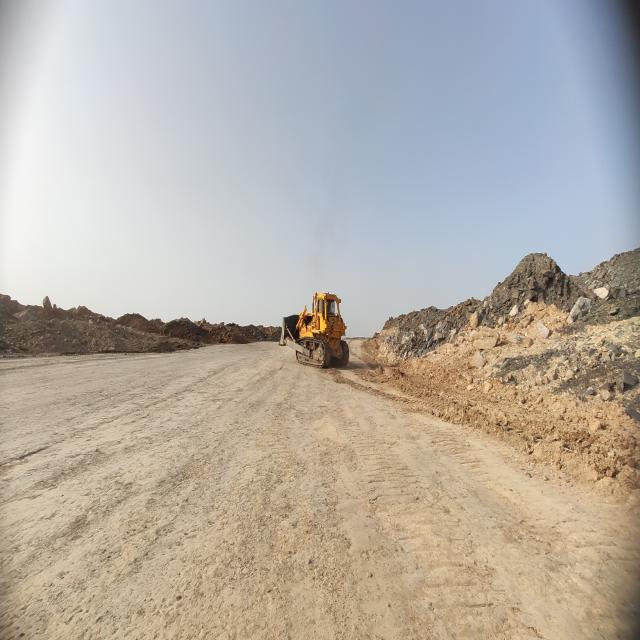buldozerpayloadergrader: (280, 293, 349, 367)
